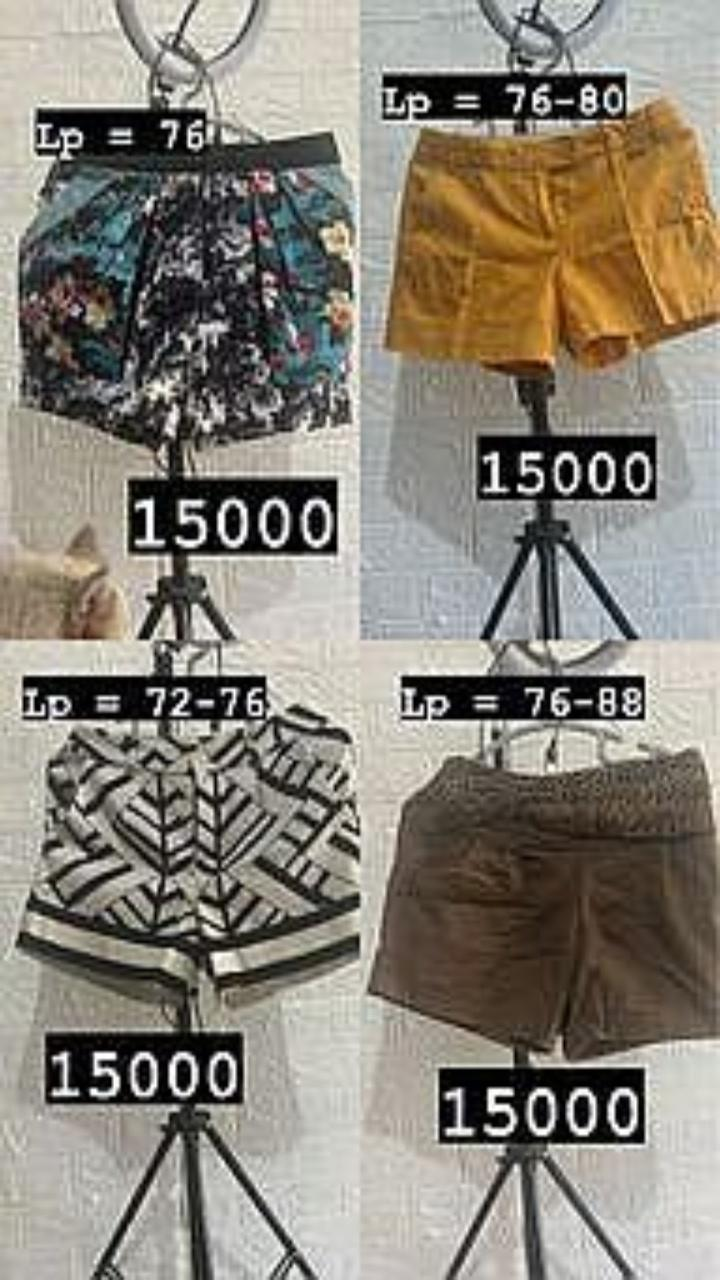Shorts: (370, 750, 719, 1058), (20, 134, 352, 448), (18, 707, 358, 995), (387, 101, 719, 373)
